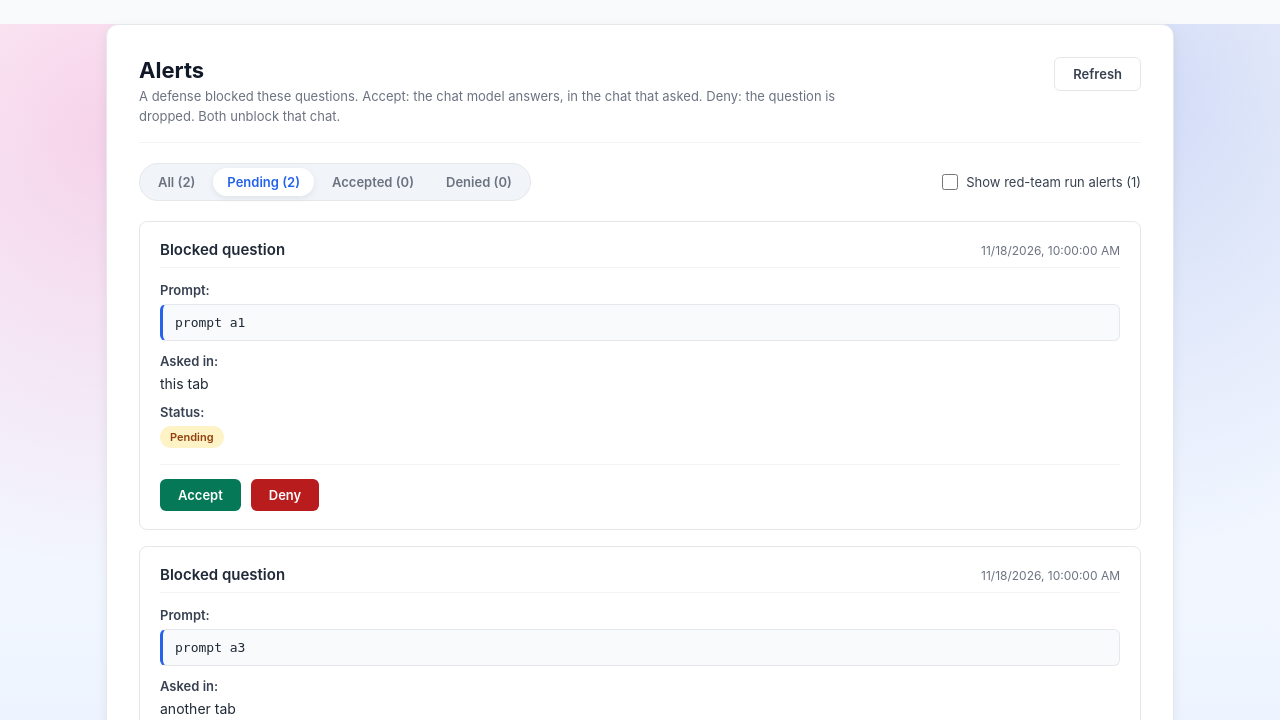
Test case: AlertsPage › names where the question was asked instead of the raw session id
Expected: the text "this tab" is shown, [160, 375, 209, 392]
Expected: the text "another tab" is shown, [160, 700, 236, 717]
Click the checkbox labelled "Show red-team run alerts (1)".
click(950, 182)  # box [942, 174, 958, 190]
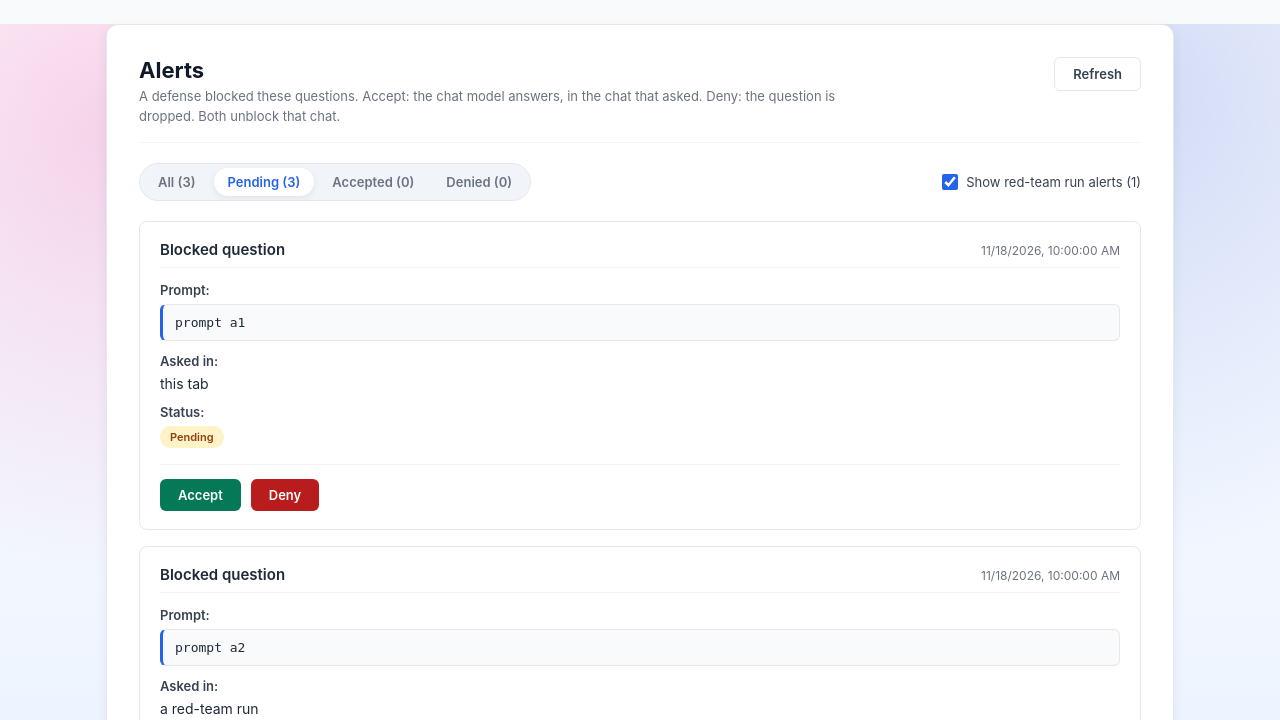
Expected: the text "a red-team run" is shown, [160, 700, 259, 717]
